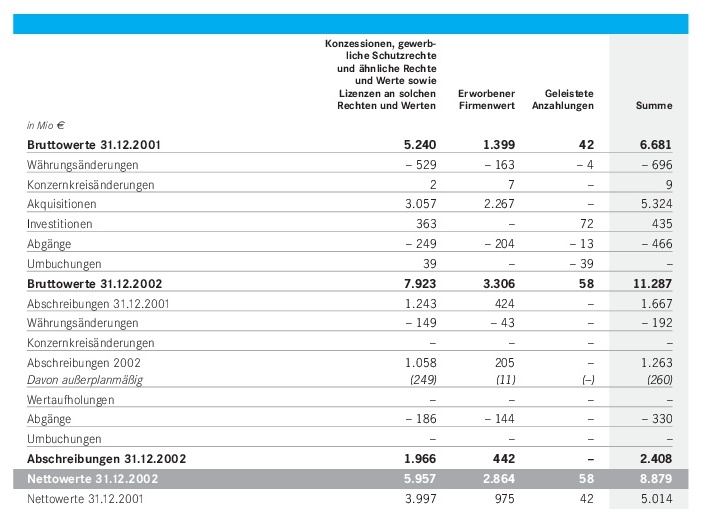table: (0, 0, 701, 522)
